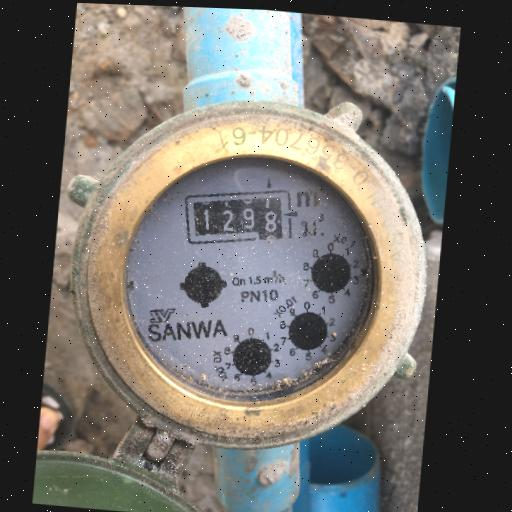1: (195, 199, 219, 237)
2: (216, 198, 240, 235)
8: (255, 195, 284, 241)
9: (235, 197, 261, 234)
border_water_meter_number: (180, 179, 304, 254)
